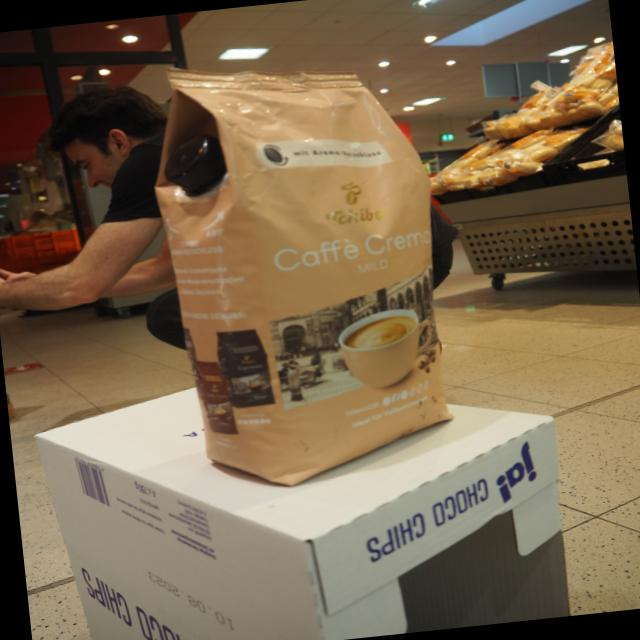CC Mild: (137, 36, 470, 502)
